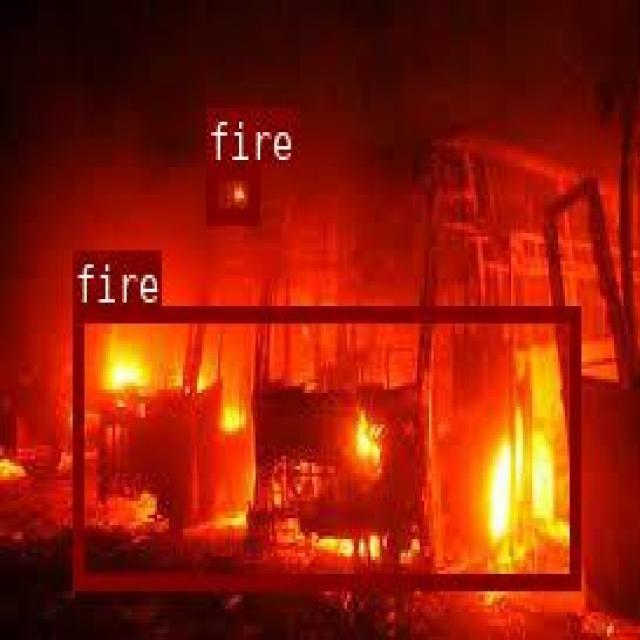fire: (72, 304, 577, 587), (206, 162, 257, 219)
